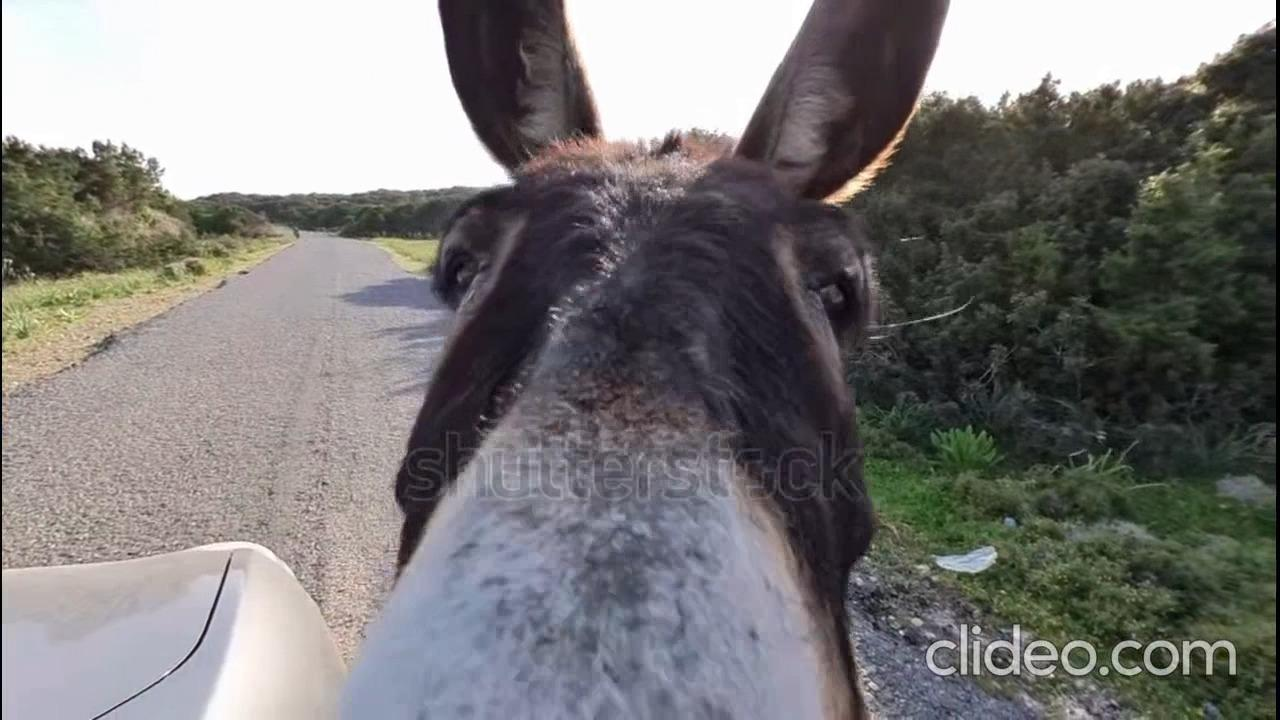Donkey: (346, 1, 945, 716)
